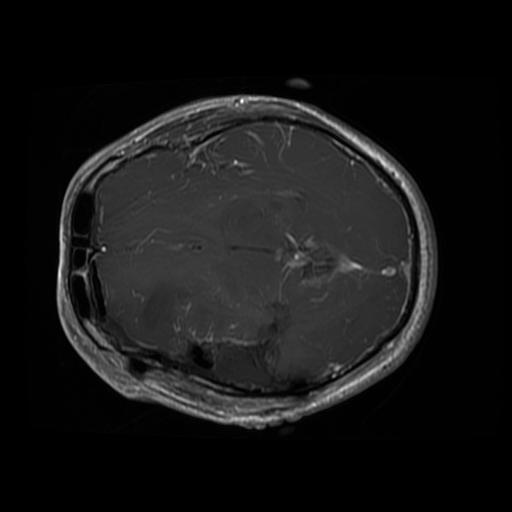glioma: (101, 283, 290, 387)
